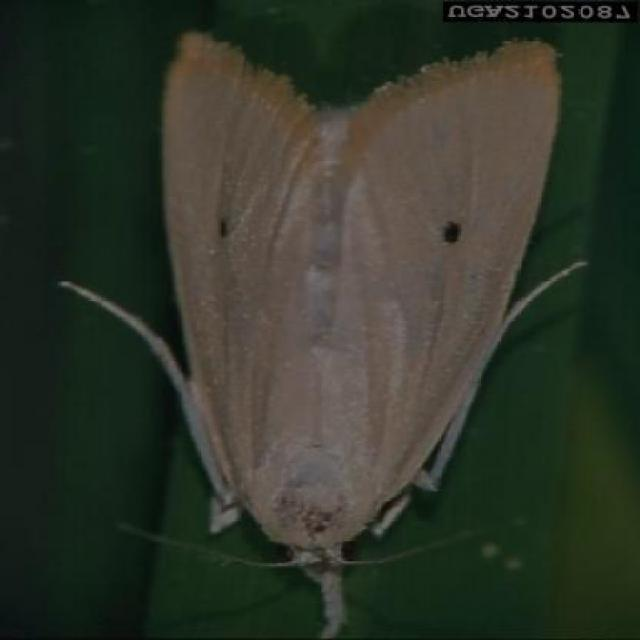stem-borer: (49, 26, 594, 640)
